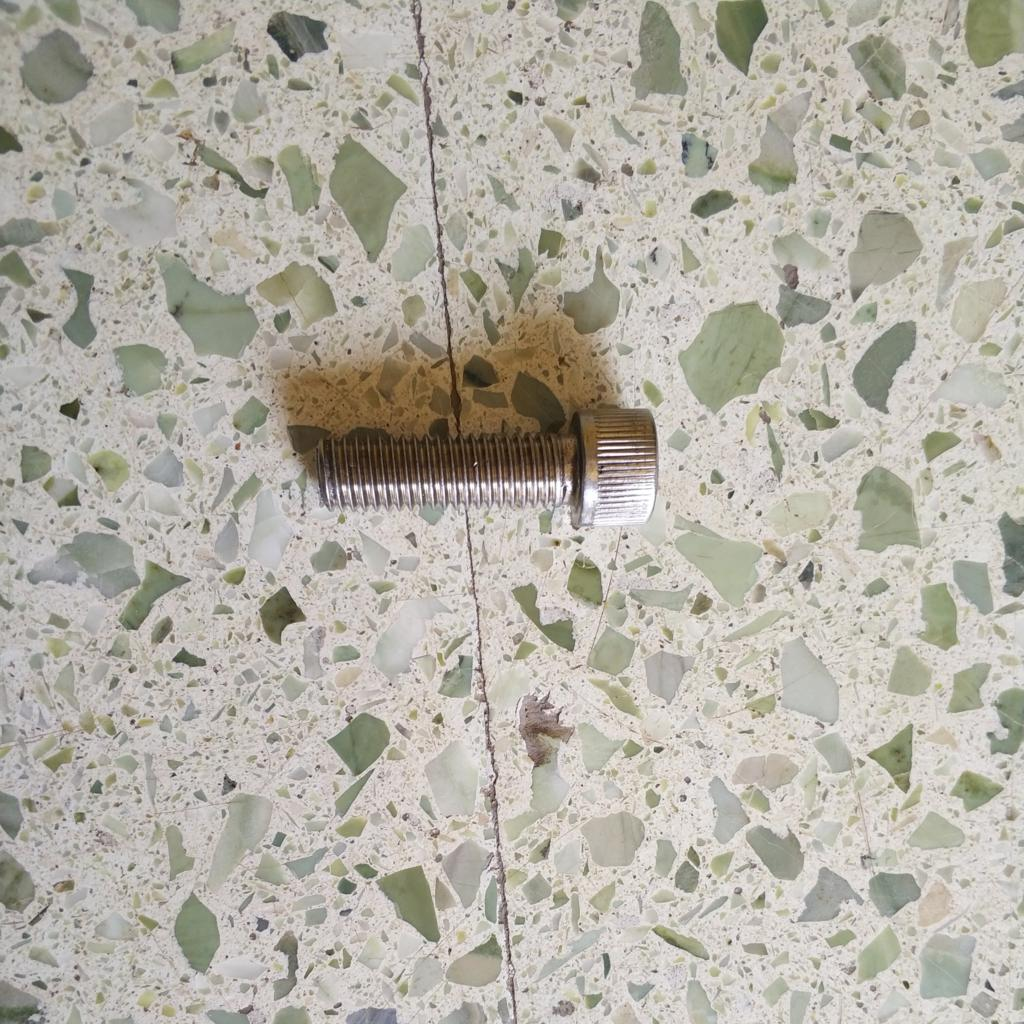screwtype1silver: (306, 401, 665, 541)
